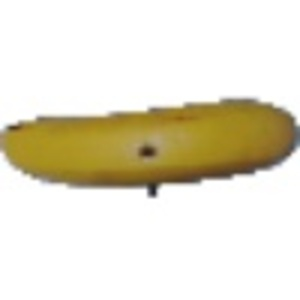banana: (1, 97, 296, 189)
